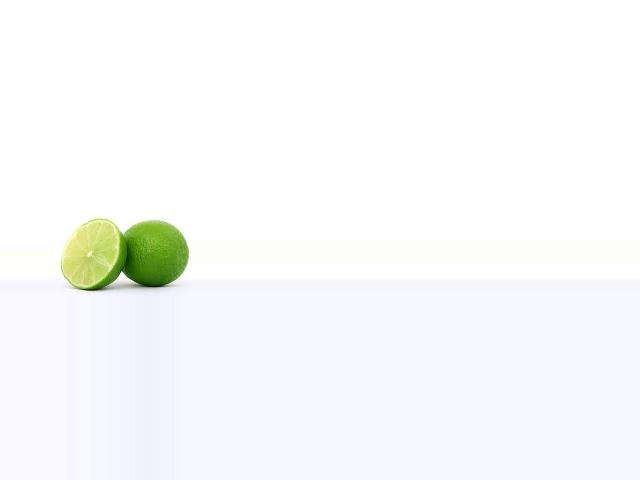lemon: (120, 218, 191, 291)
